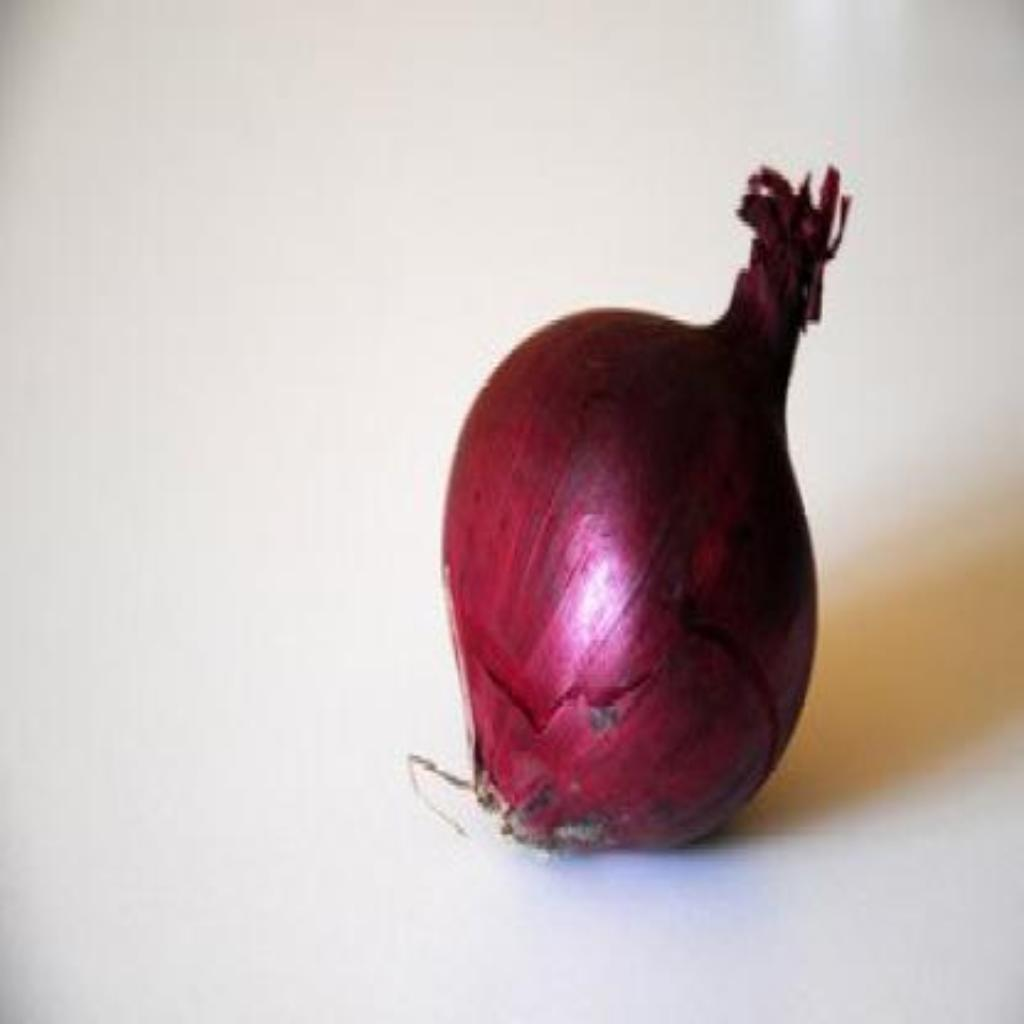Onion: (446, 167, 852, 848)
